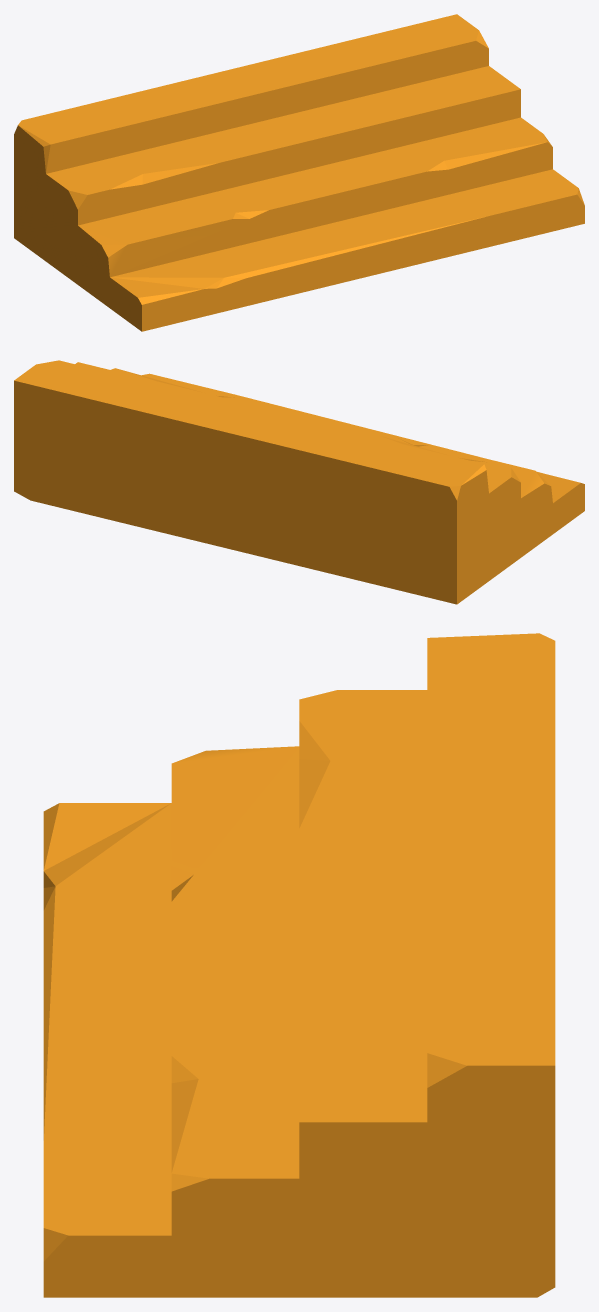
File: SM_Buildings_Stairs_1x2_01P.fbx
The picture shows the model from 3 angles, top to bottom: view 1: azimuth 30°, elevation 25°; view 2: azimuth 150°, elevation 25°; view 3: azimuth 270°, elevation 25°; orthographic projection. The views are drawn at different scales.
Visible parts, largest first — view 1: SM_Buildings_Stairs_1x2_01P; view 2: SM_Buildings_Stairs_1x2_01P; view 3: SM_Buildings_Stairs_1x2_01P.
Part boxes in pixels (left/top/right/bottom): SM_Buildings_Stairs_1x2_01P: left=14, top=14, right=584, bottom=331; SM_Buildings_Stairs_1x2_01P: left=14, top=360, right=584, bottom=604; SM_Buildings_Stairs_1x2_01P: left=43, top=633, right=555, bottom=1297.
Size of the model in its own units: 200 by 50 by 100.
